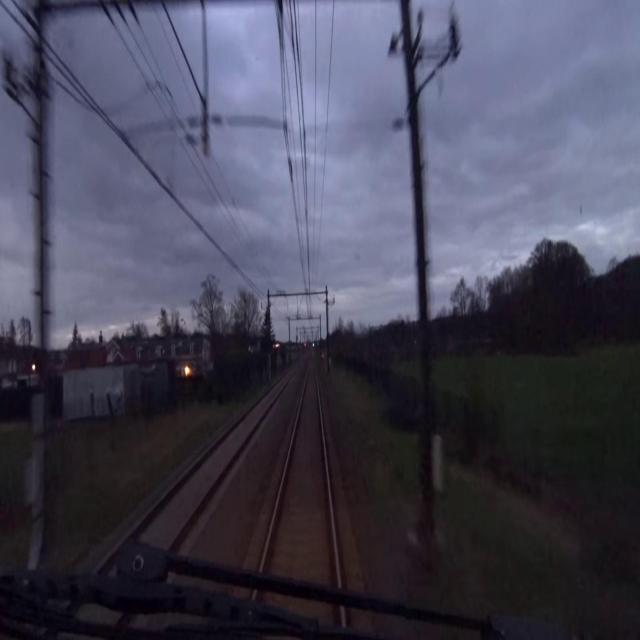rail-track: (138, 377, 286, 543), (264, 357, 335, 580)
